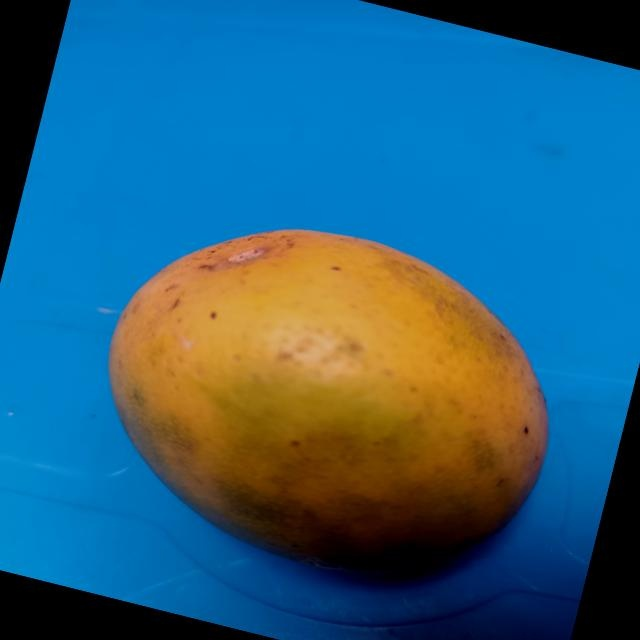agrume: (62, 170, 594, 618)
